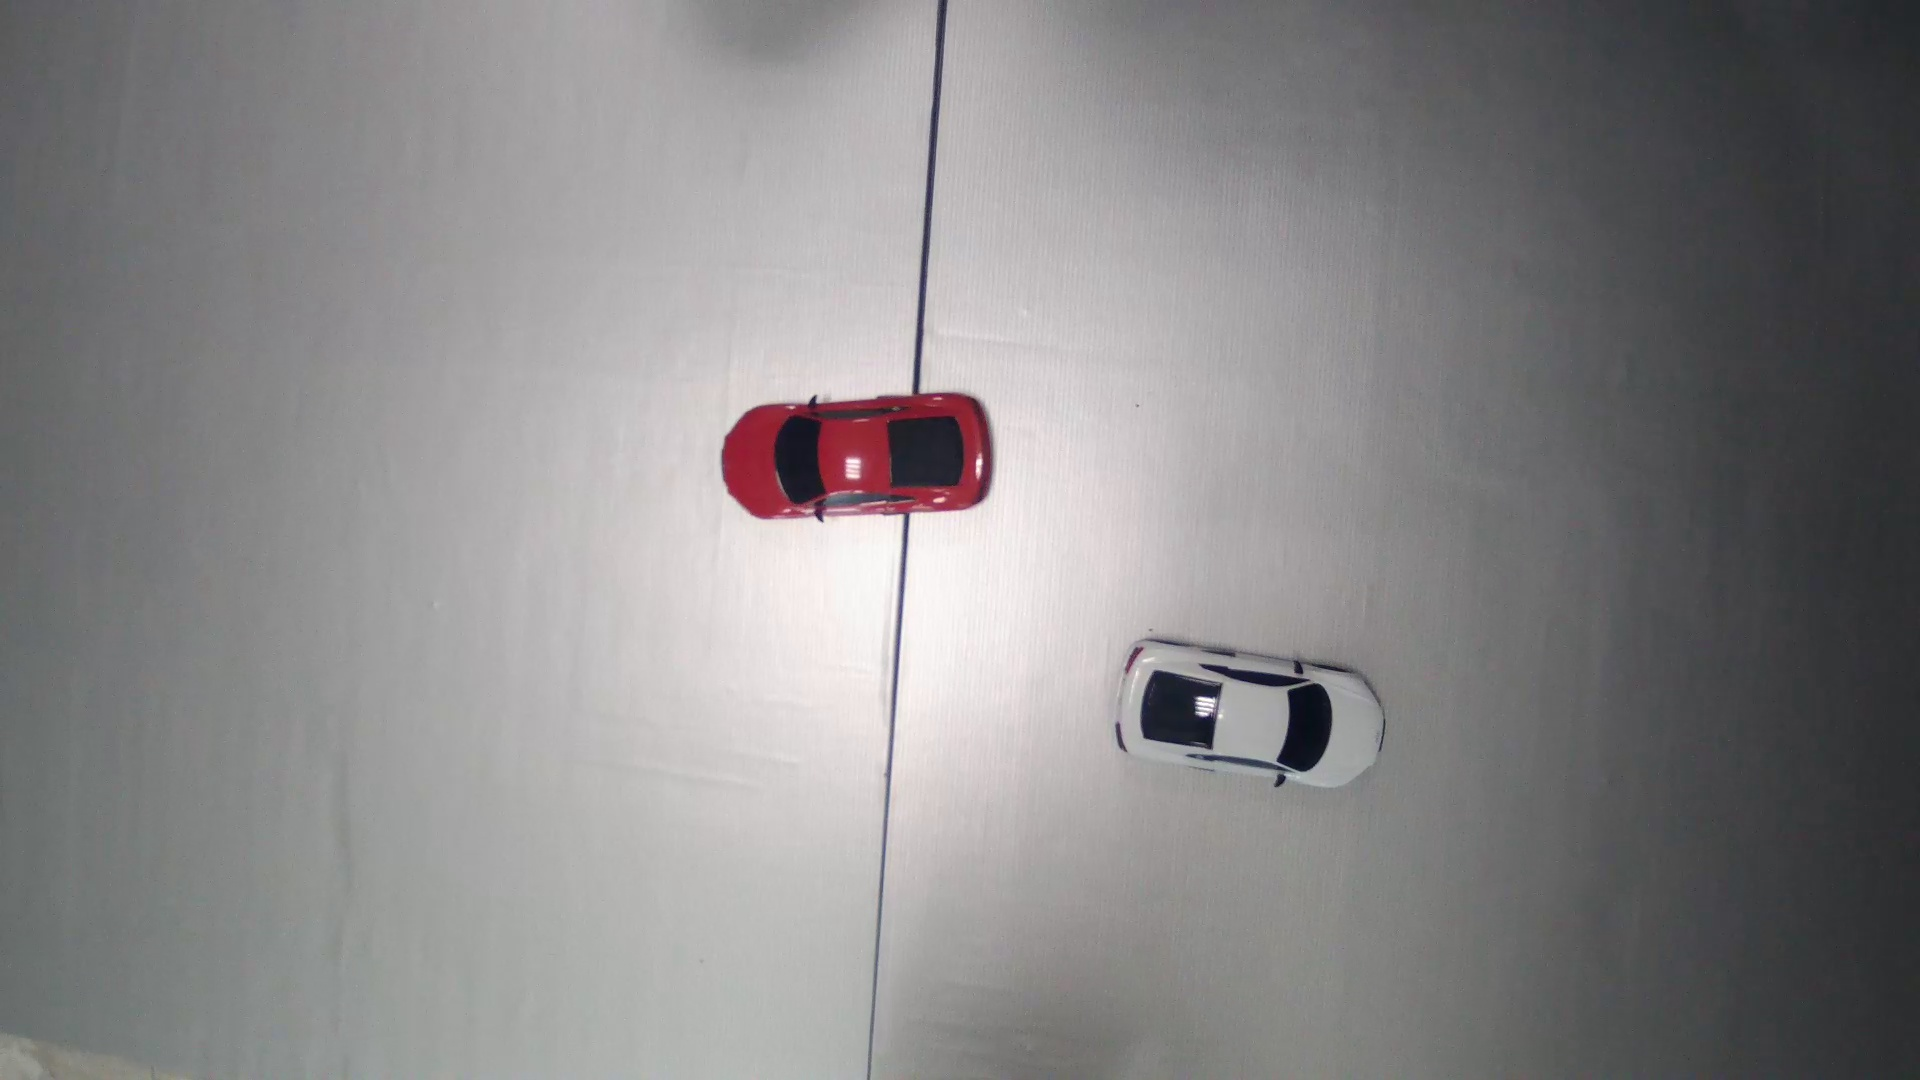remote_car: (1116, 634, 1386, 789), (720, 389, 997, 526)
